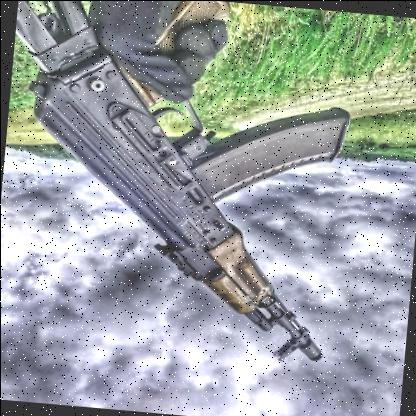rifle: (0, 0, 375, 378)
